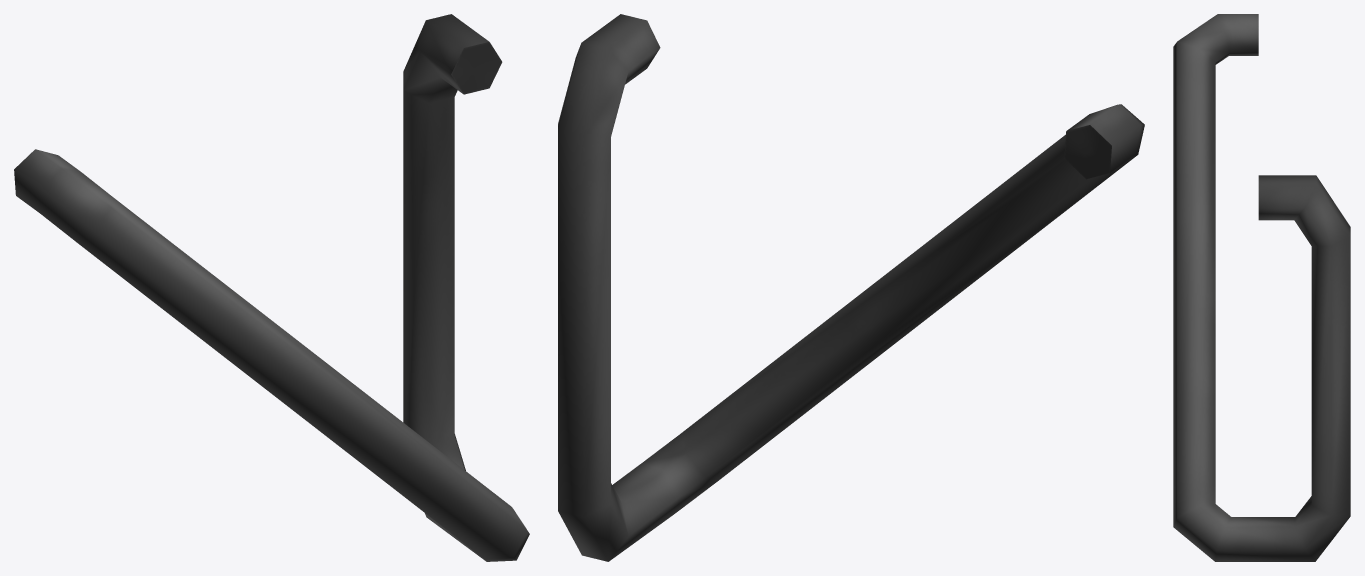
File: BO_Sin1_Thread02.FBX
The picture shows the model from 3 angles, left to right: view 1: azimuth 30°, elevation 25°; view 2: azimuth 150°, elevation 25°; view 3: azimuth 270°, elevation 25°; orthographic projection. The views are drawn at different scales.
Visible parts, largest first — view 1: BO_Sin1_Thread02; view 2: BO_Sin1_Thread02; view 3: BO_Sin1_Thread02.
Part boxes in pixels (box(x1,y1,x2,y2)): BO_Sin1_Thread02: box(14, 14, 529, 561); BO_Sin1_Thread02: box(558, 14, 1144, 561); BO_Sin1_Thread02: box(1173, 14, 1350, 561).
Bounding box in the file's own units: 13.88 × 13.6 × 5.75.
